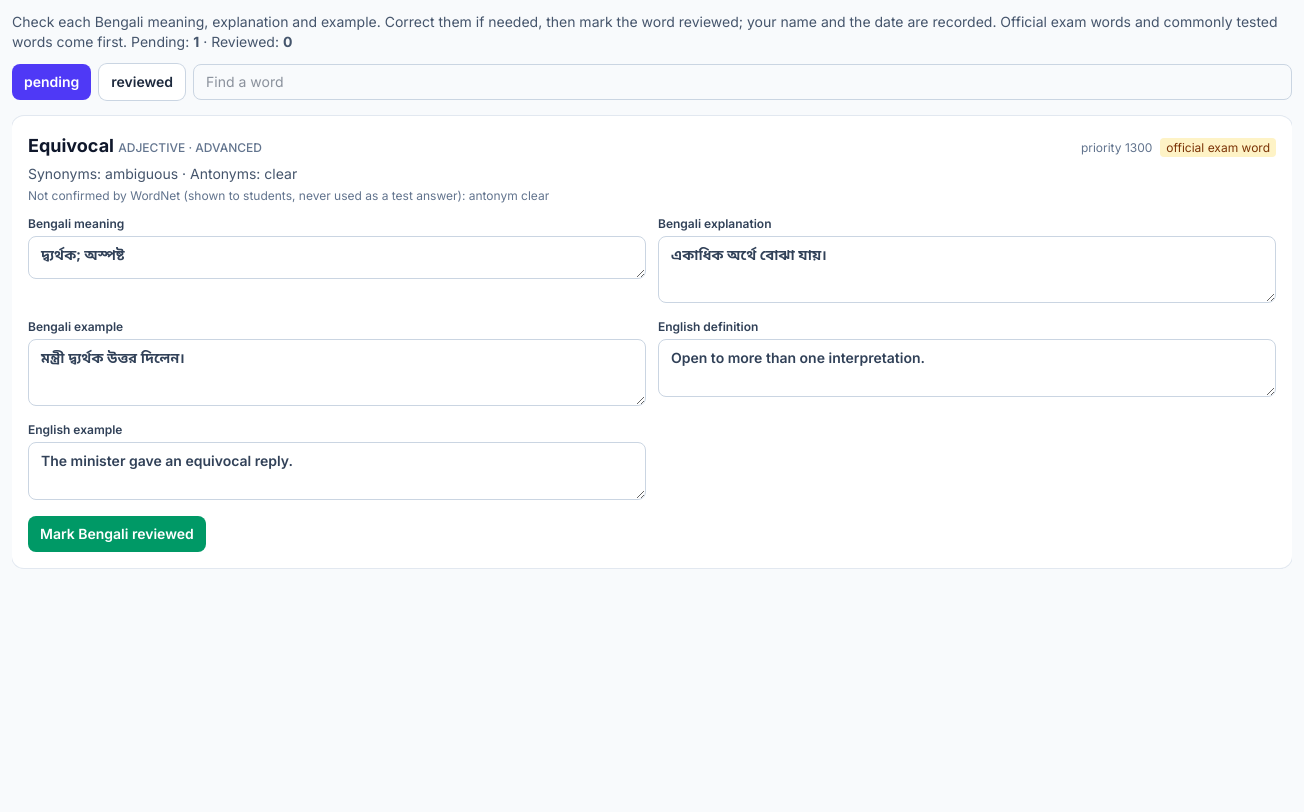
it: Admin › Bengali review › lists the queue, saves a corrected meaning and marks it reviewed in one step
This screenshot has width=1304, height=812.
Expected: the text "official exam word" is shown, top-left (1160, 138), bottom-right (1276, 157)
Expected: the text "Not confirmed by WordNet" shows "antonym clear", top-left (469, 188), bottom-right (549, 203)
Replace the text in the text box labelled "Bengali meaning" with "দ্ব্যর্থবোধক" at coordinates (337, 257), box top-left (28, 236), bottom-right (646, 278)
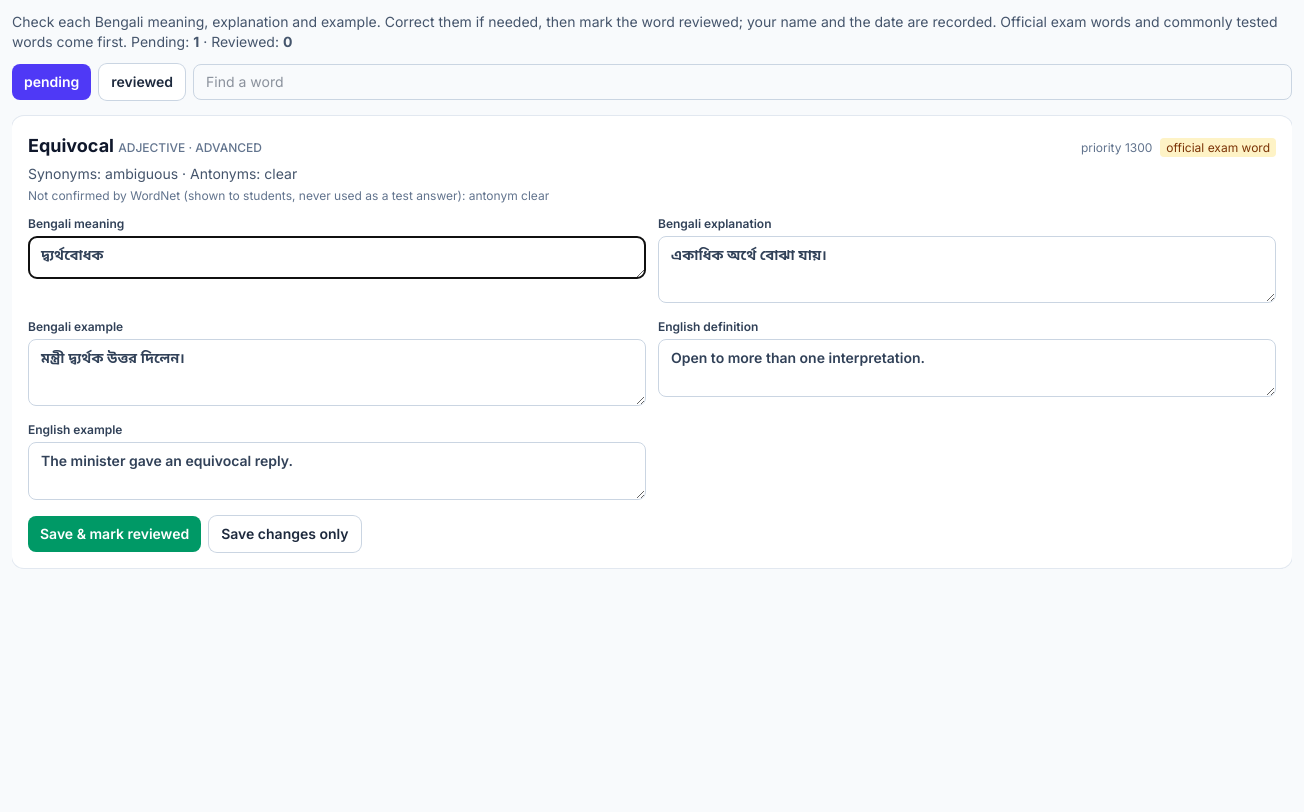
Click the button "Save & mark reviewed".
click(115, 534)  # box top-left (28, 516), bottom-right (201, 552)
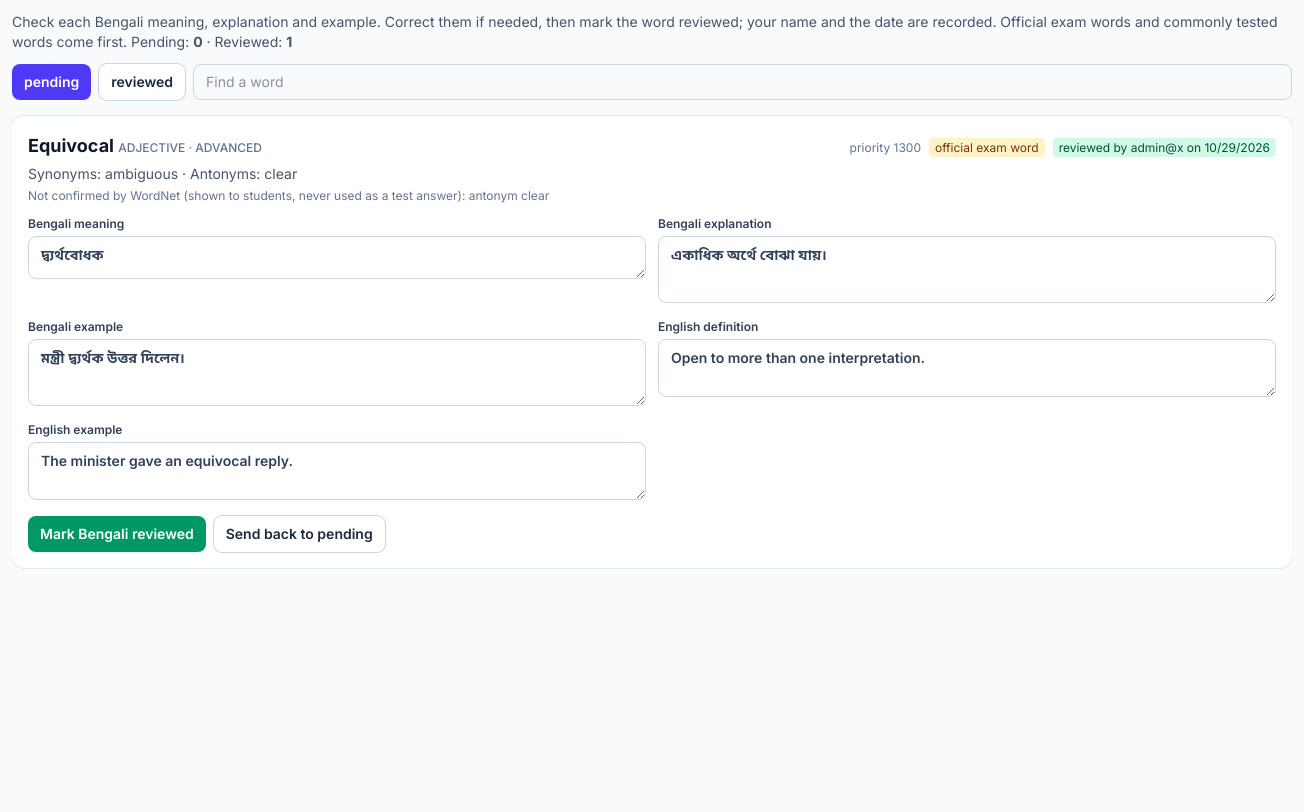
Expected: the text "reviewed by admin@x on 10/29/2026" is shown, top-left (1053, 138), bottom-right (1276, 157)
